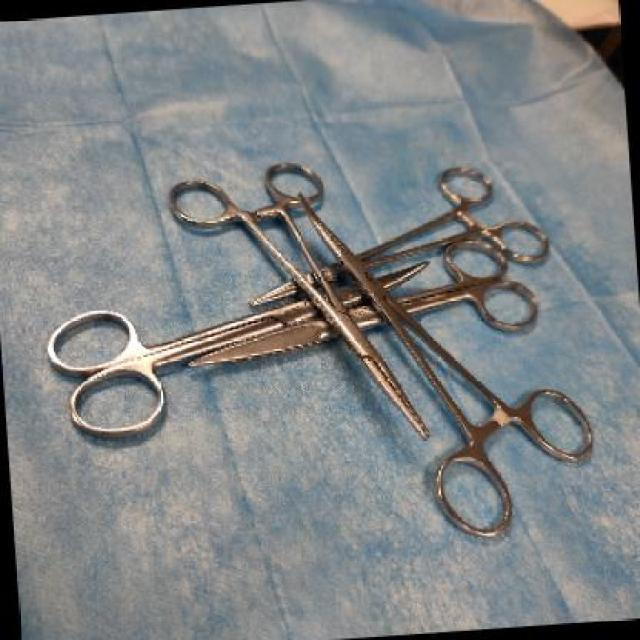tools_table: (33, 120, 619, 546)
